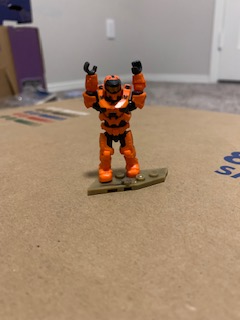spartan: (79, 60, 148, 185)
up: (78, 61, 147, 127)
